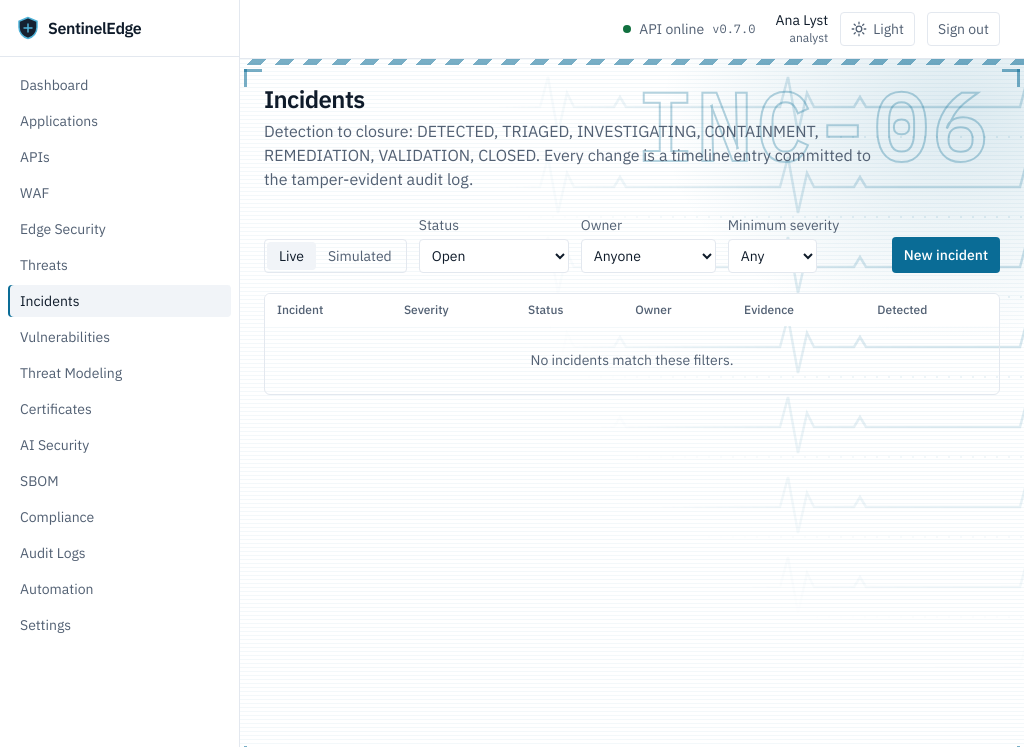
Test: incidents list › creates an incident and goes to its page
expect the text "No incidents match these filters." is shown: met, box [265, 326, 999, 394]
Click the button "New incident" at (946, 255), box [892, 237, 1000, 273]
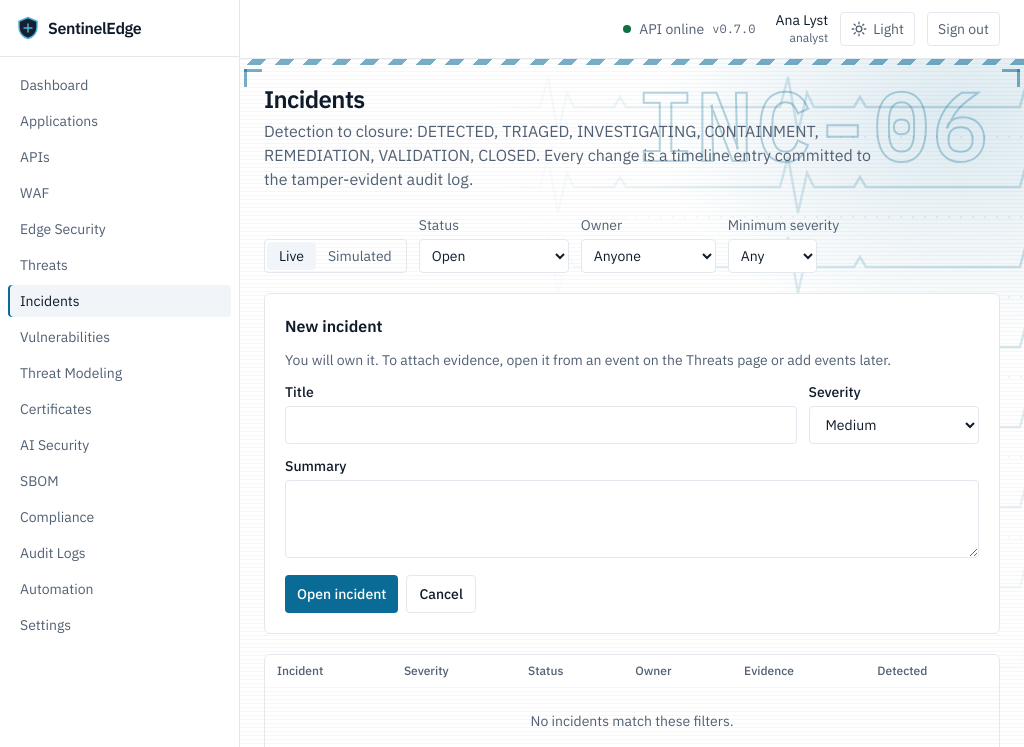
Type "Suspicious exports" into the field labelled "Title" at (541, 425), box [285, 406, 796, 444]
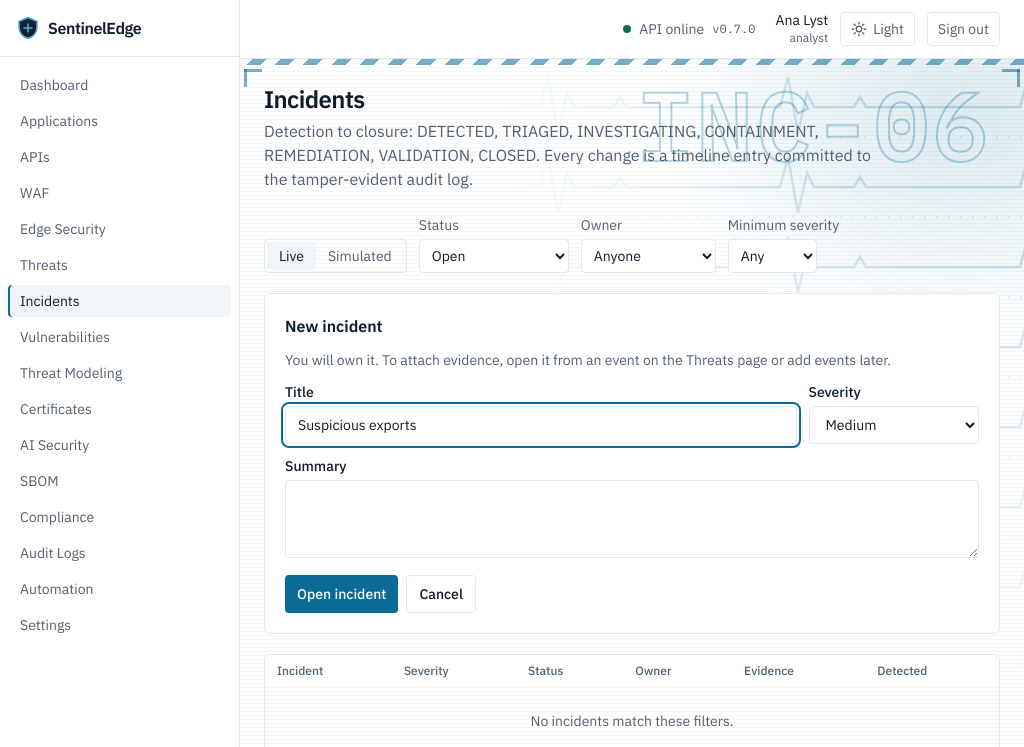
Click the button "Open incident" at (342, 594), box [285, 575, 398, 613]
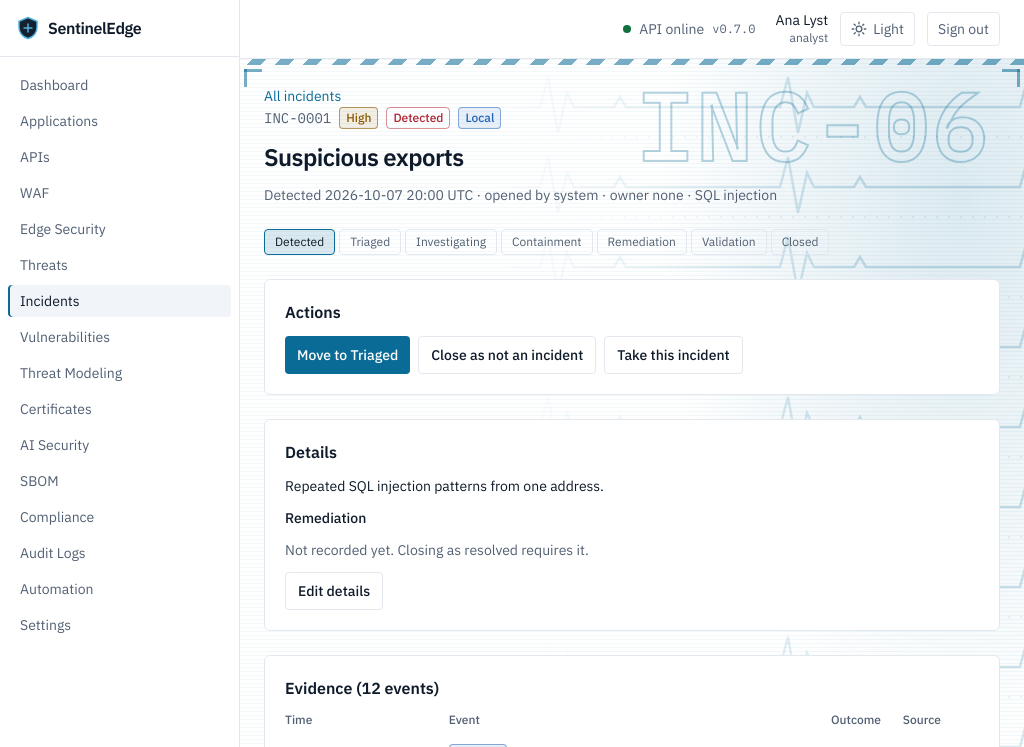
expect the heading "Suspicious exports" is shown: met, box [264, 141, 464, 173]
